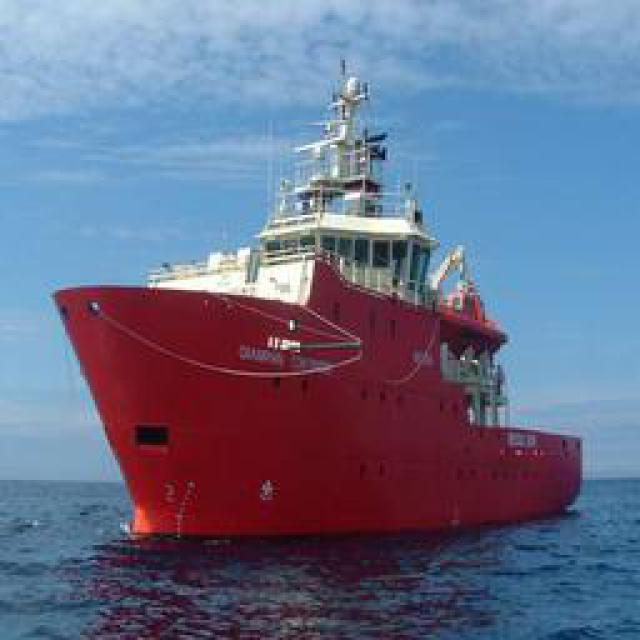Ship: (55, 53, 570, 541)
